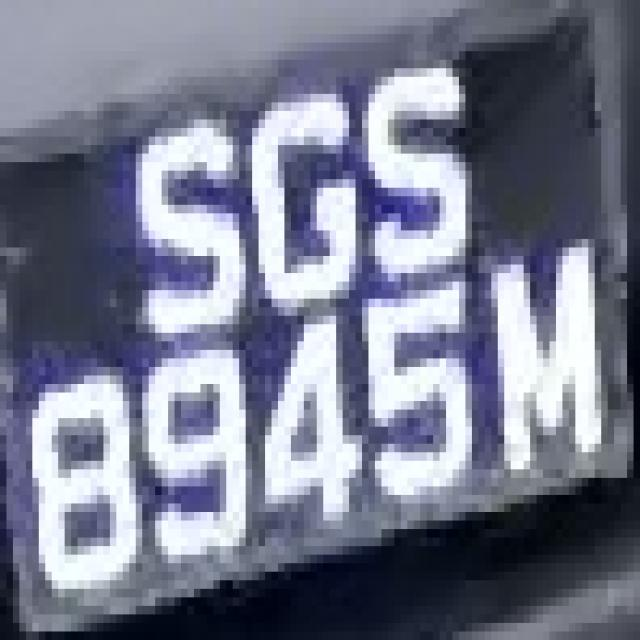4: (233, 299, 381, 580)
5: (349, 282, 485, 538)
8: (13, 342, 149, 632)
9: (116, 333, 258, 614)
G: (226, 68, 375, 316)
M: (472, 230, 614, 512)
S: (116, 77, 252, 367), (349, 60, 491, 282)
